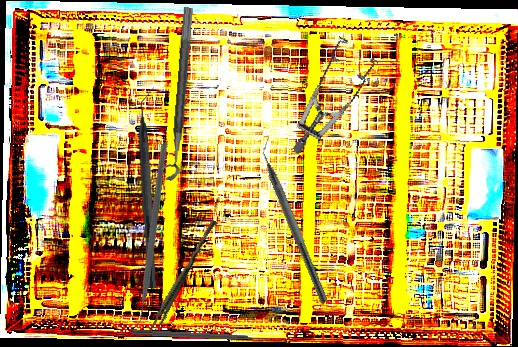Chopper: (62, 141, 231, 330), (251, 132, 340, 306), (133, 86, 170, 289)
Fixation Ring: (153, 5, 195, 182)
Hook Surgical: (130, 329, 270, 344)
Speculum: (258, 26, 399, 155)
Tissue Forceps: (146, 217, 219, 337)
